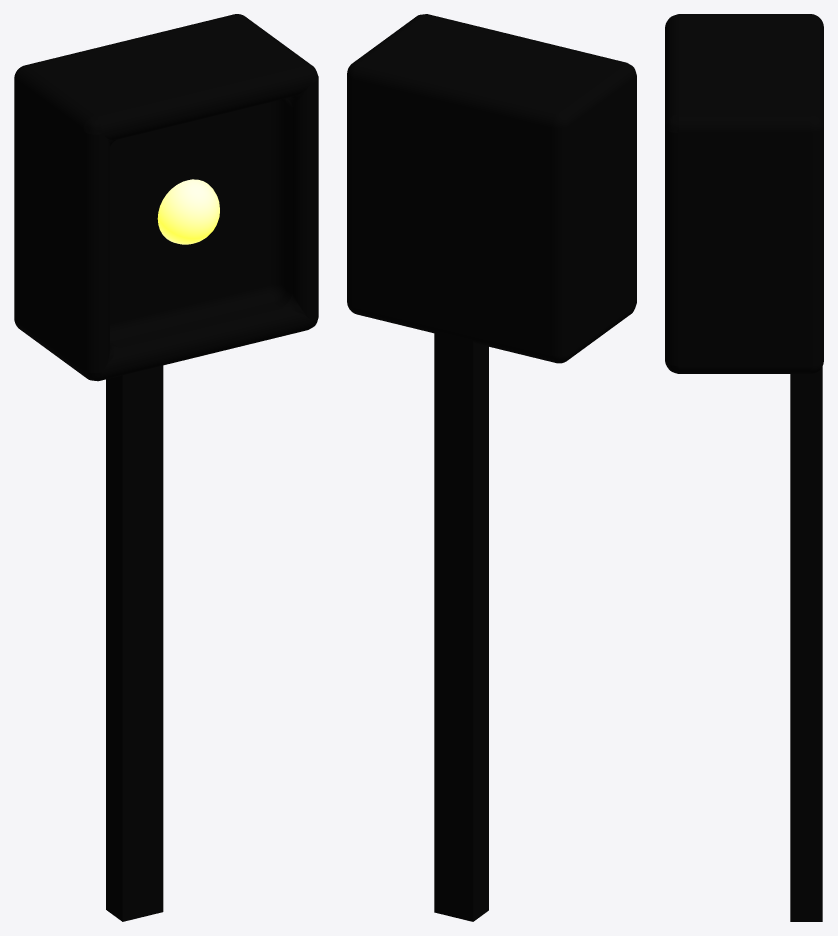
Rendered from Generator.fbx.
3 views of the same model, side by side, from view 1: azimuth 30°, elevation 25°; view 2: azimuth 150°, elevation 25°; view 3: azimuth 270°, elevation 25° (orthographic). The views are drawn at different scales.
Visible parts, largest first — view 1: Cube.001, Cube, Sphere; view 2: Cube.001, Cube; view 3: Cube.001, Cube.
Part boxes in pixels (left/top/right/bottom): Cube.001: left=14, top=14, right=318, bottom=381; Cube: left=106, top=365, right=163, bottom=921; Sphere: left=157, top=179, right=219, bottom=244; Cube.001: left=347, top=14, right=636, bottom=363; Cube: left=434, top=330, right=488, bottom=921; Cube.001: left=665, top=14, right=823, bottom=373; Cube: left=790, top=366, right=822, bottom=921.
Size of the model in its own units: 66.31 by 236 by 40.09.
